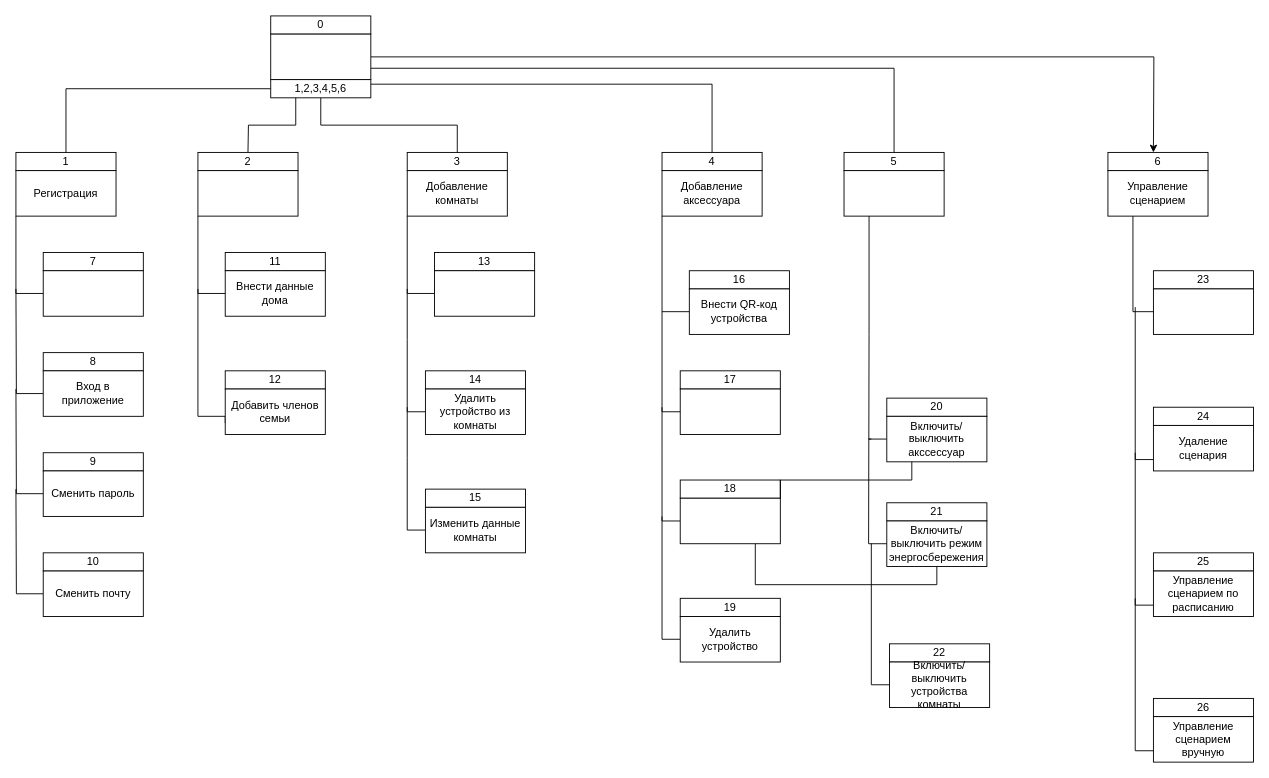
Some shapes in this 1269 by 778 pixel diagram are drawn without their labels. Here are the shapes that lost their labels. From the top down, the box of each, then its label:
(270, 33, 371, 80): Главная страница
(197, 170, 298, 216): Добавление дома
(843, 170, 944, 216): Управление аксессуаром
(42, 270, 143, 316): Ввести логин и пароль
(434, 270, 535, 316): Добавить устройство в комнату
(1153, 288, 1254, 334): Создание сценария
(679, 388, 780, 435): Внести уникальный номер устройства
(679, 497, 780, 544): Просмотреть данные устройства
